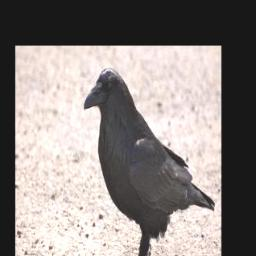Crow: (82, 66, 217, 256)
